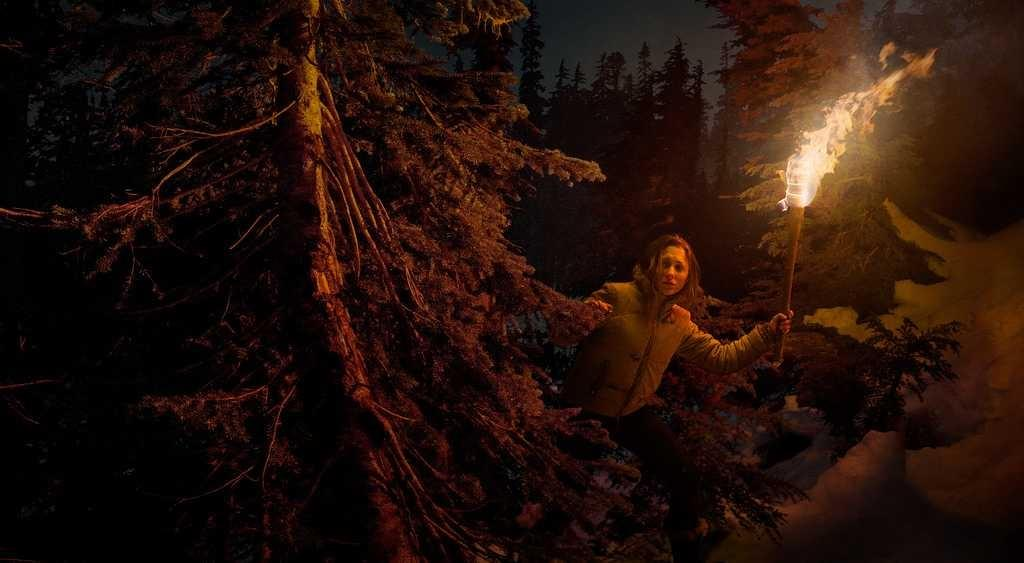fire: (784, 33, 945, 208)
